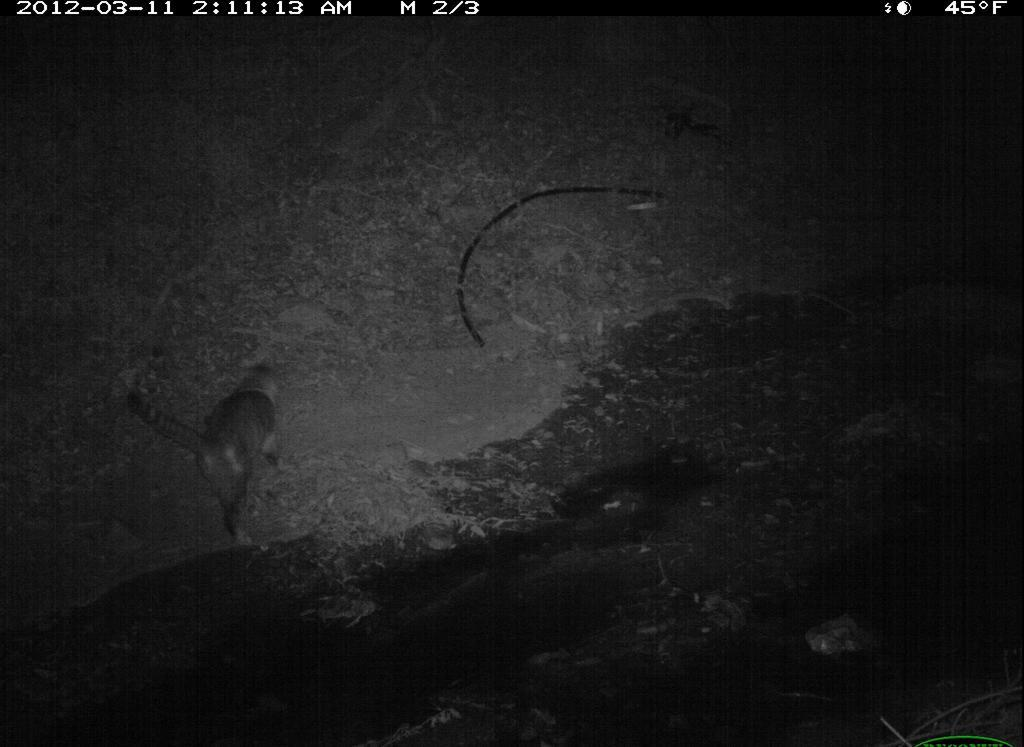cat: (117, 355, 306, 559)
